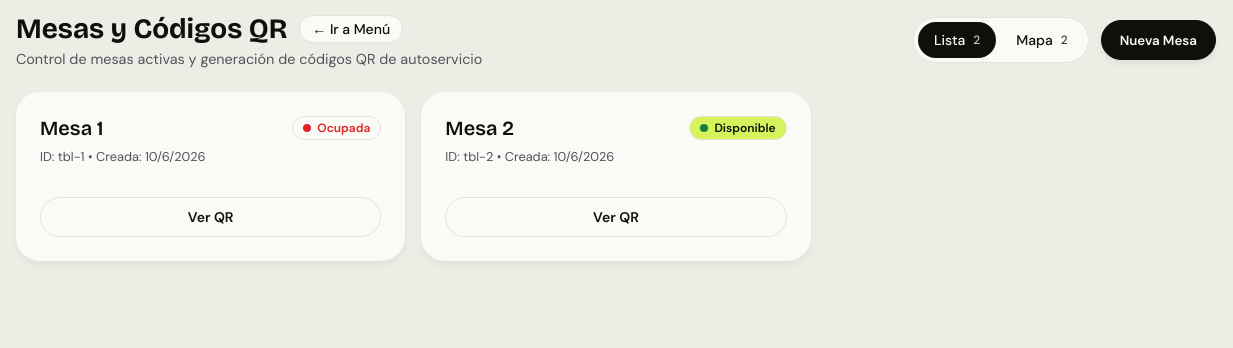
Test: Gestión de Mesas en Admin Dashboard (Tests Rojo/Verde) › 7. Permite alternar entre vista Lista y Mapa de Mesas mostrando slots con tinta/punteado y leyenda
Expected: the heading "Mesa 1" is shown, [40,116,103,140]
Cambiar a la vista Mapa
Click the tab "Mapa 2" at (1042, 40), box [1000,22,1084,58]
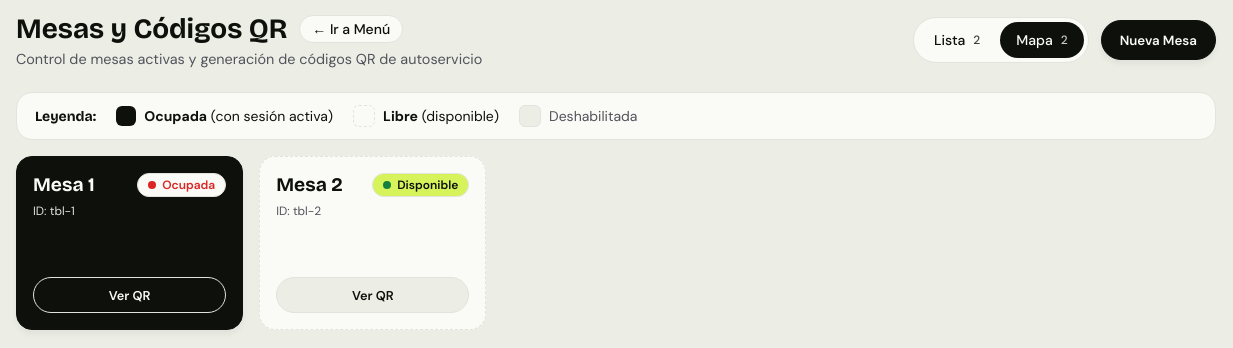
Expected: the text "Leyenda:" is shown, [35,108,96,124]
Expected: the element with test id "tables-map-grid" is shown, [16,156,486,330]
Cambiar de regreso a la vista Lista
Click the tab "Lista 2" at (957, 40), box [918,22,996,58]
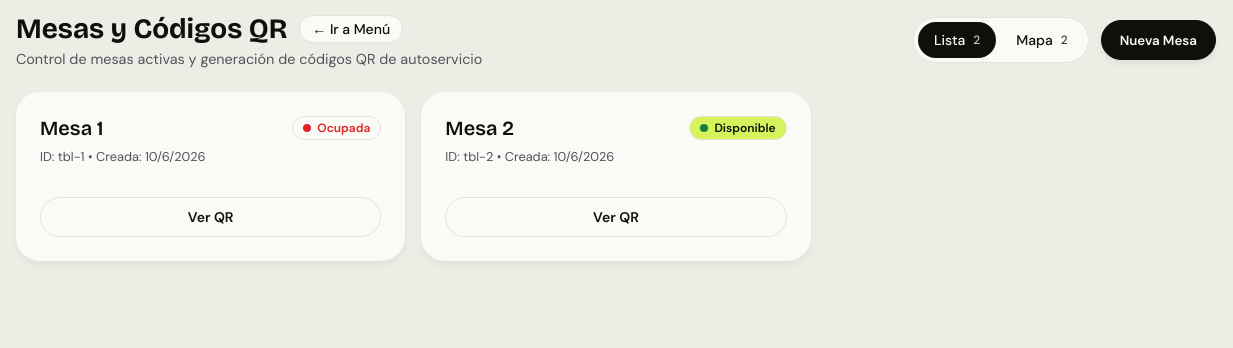
Expected: the element that starts with "Mesa 1" is shown, [16,92,811,261]
